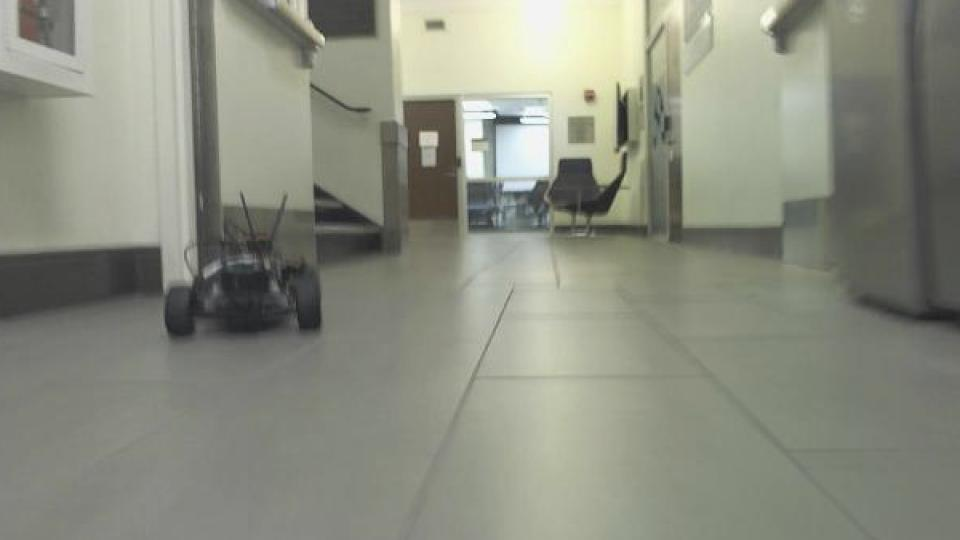car: (158, 188, 325, 341)
